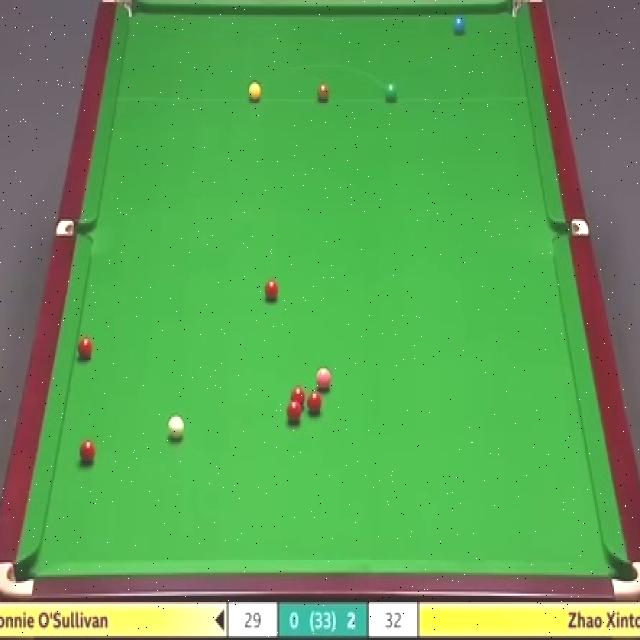blue-ball: (454, 16, 464, 38)
brown-ball: (316, 85, 330, 102)
green-ball: (384, 80, 399, 105)
pink-ball: (316, 366, 332, 390)
red-ball: (75, 336, 94, 362), (79, 437, 96, 466), (307, 390, 323, 416), (291, 386, 305, 410), (263, 280, 279, 300), (287, 400, 301, 422)
white-ball: (167, 415, 184, 440)
yellow-ball: (247, 81, 262, 103)
